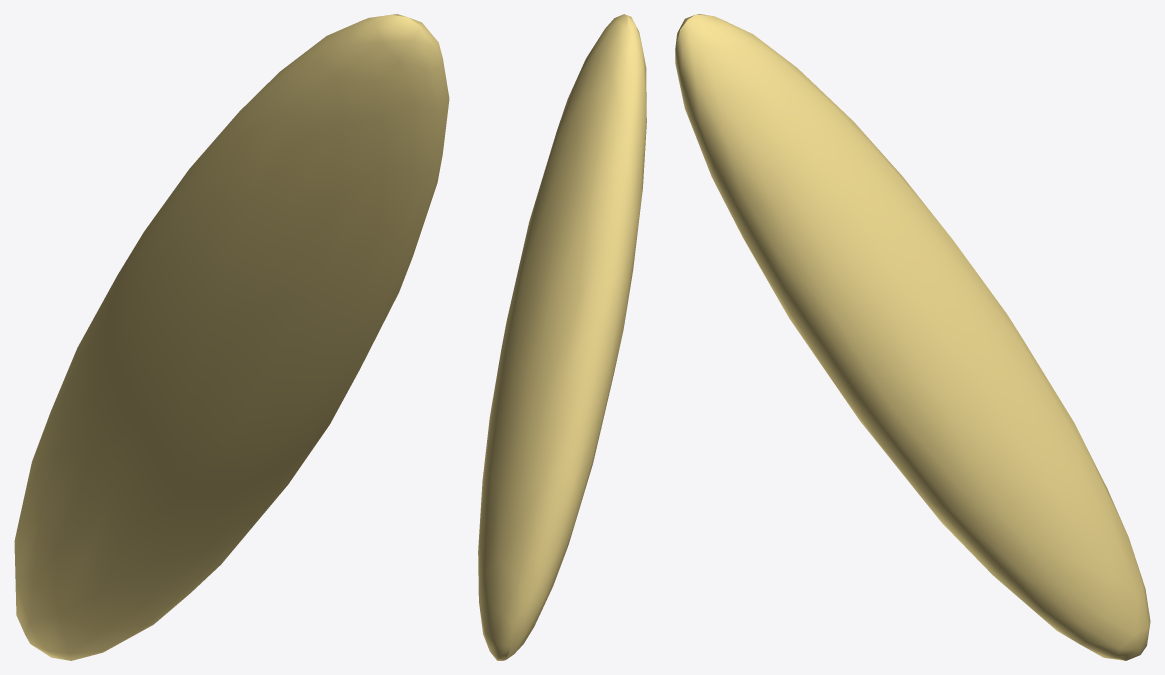
The model's file is fma73780_mm3505.glb.
3 views of the same model, side by side, from view 1: azimuth 30°, elevation 25°; view 2: azimuth 150°, elevation 25°; view 3: azimuth 270°, elevation 25° (orthographic). The views are drawn at different scales.
Visible parts, largest first — view 1: FMA73780_MM3505; view 2: FMA73780_MM3505; view 3: FMA73780_MM3505.
Part boxes in pixels (<box>): FMA73780_MM3505: <box>14,14,449,660</box>; FMA73780_MM3505: <box>478,14,646,660</box>; FMA73780_MM3505: <box>675,14,1150,660</box>.
Size of the model in its own units: 0.0019 by 0.00692 by 0.00447.
